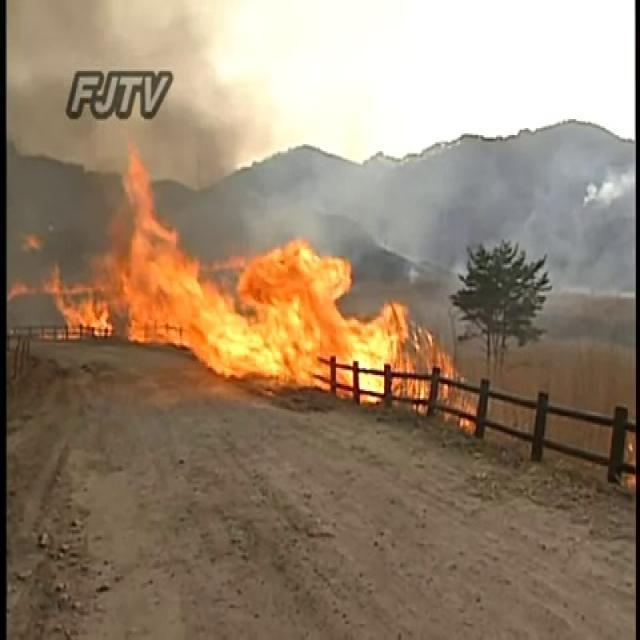Fire: (238, 240, 476, 431), (106, 149, 238, 392), (9, 263, 106, 341), (21, 234, 44, 253)
Smoke: (7, 0, 250, 148), (8, 150, 106, 232)
